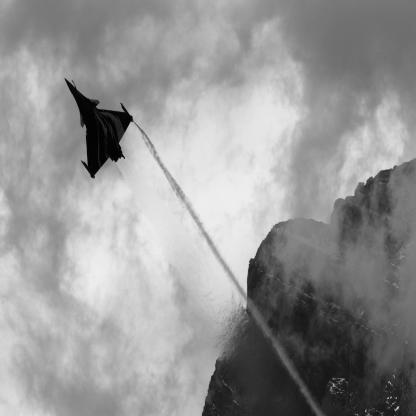Rafale: (65, 79, 135, 181)
